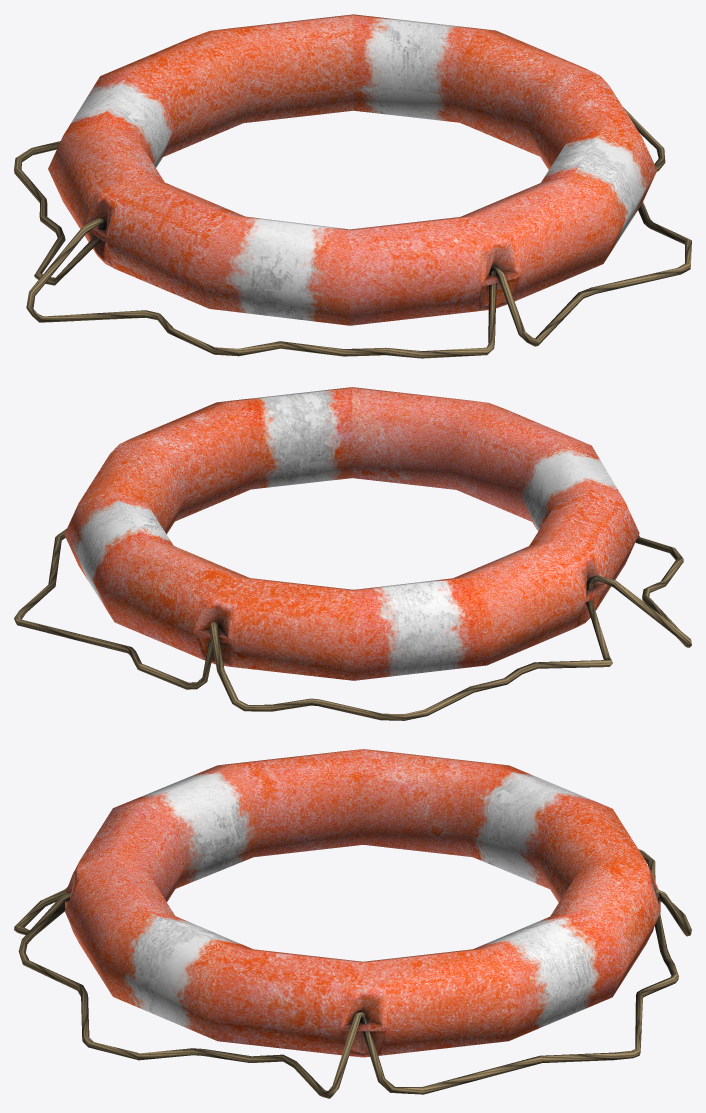
Rendered from LineLine.fbx.
3 views of the same model, one above another, from view 1: azimuth 30°, elevation 25°; view 2: azimuth 150°, elevation 25°; view 3: azimuth 270°, elevation 25° (orthographic). The views are drawn at different scales.
Visible parts, largest first — view 1: Life_Line; view 2: Life_Line; view 3: Life_Line.
Part boxes in pixels (x1,y1,x2,y2): Life_Line: (14, 14, 691, 358); Life_Line: (14, 387, 691, 720); Life_Line: (14, 749, 691, 1098).
Size of the model in its own units: 101 by 15.51 by 92.92.
Materials: 1 (1 with a texture image).
